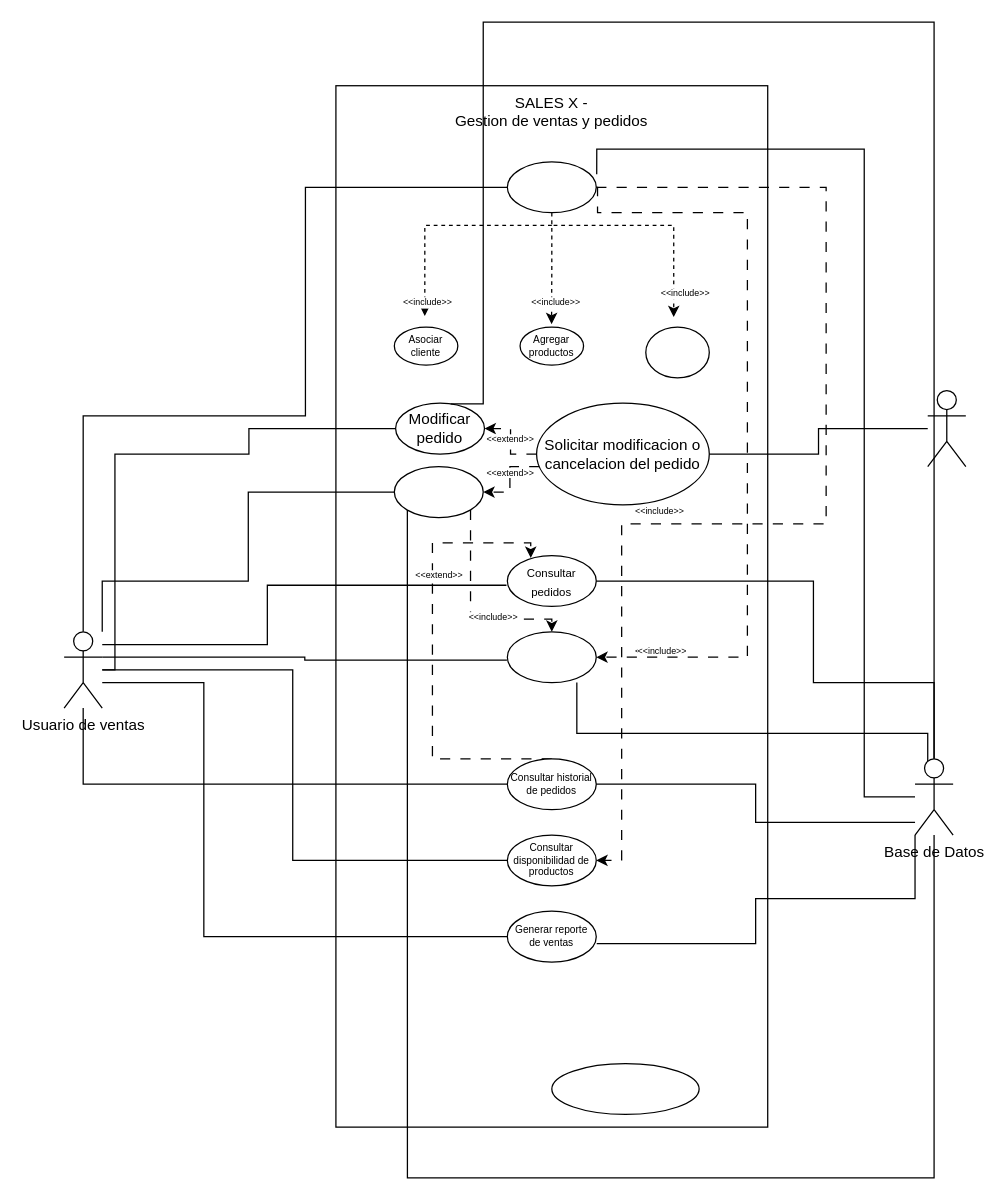
The diagram is 1006 pixels wide and 1201 high, and some of its shapes have lost their labels. The shapes that lost their labels are listed below. From the top down, each one's centre as x and y in pixels, then its label:
the point at 551,187: Registrar pedido
the point at 677,352: Calcular subtotal, impuestos y total
the point at 946,428: Cliente
the point at 438,491: Cancelar pedido
the point at 551,657: Gestionar estados del pedido
the point at 625,1088: Exponer servicios para integración con otros sistemas
